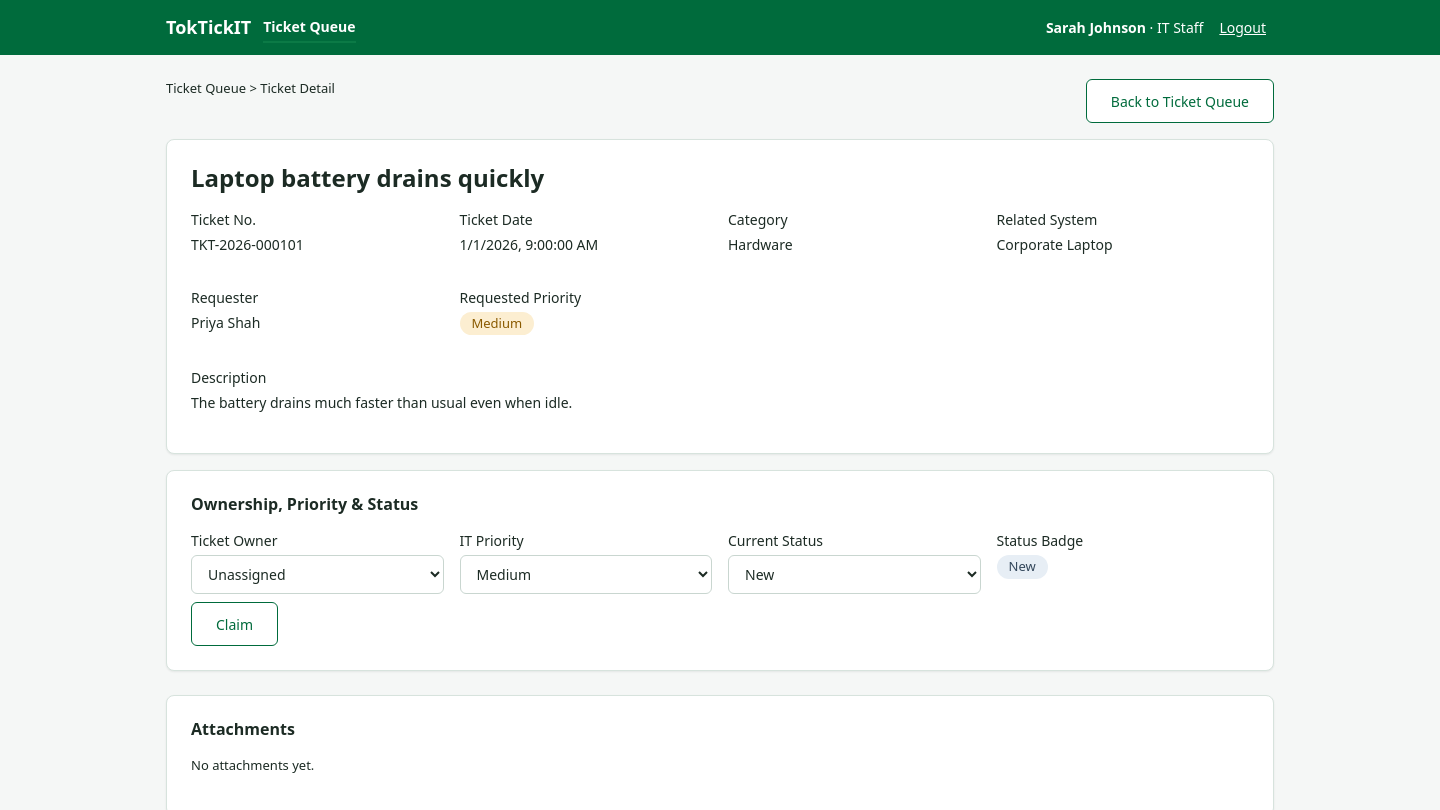
Scenario: IT Priority and Status › reverts the Status select and shows an error on a 409 INVALID_TRANSITION
Select "Open" in the dropdown labelled "Current Status" at x=854, y=575, box [728,556,980,594]
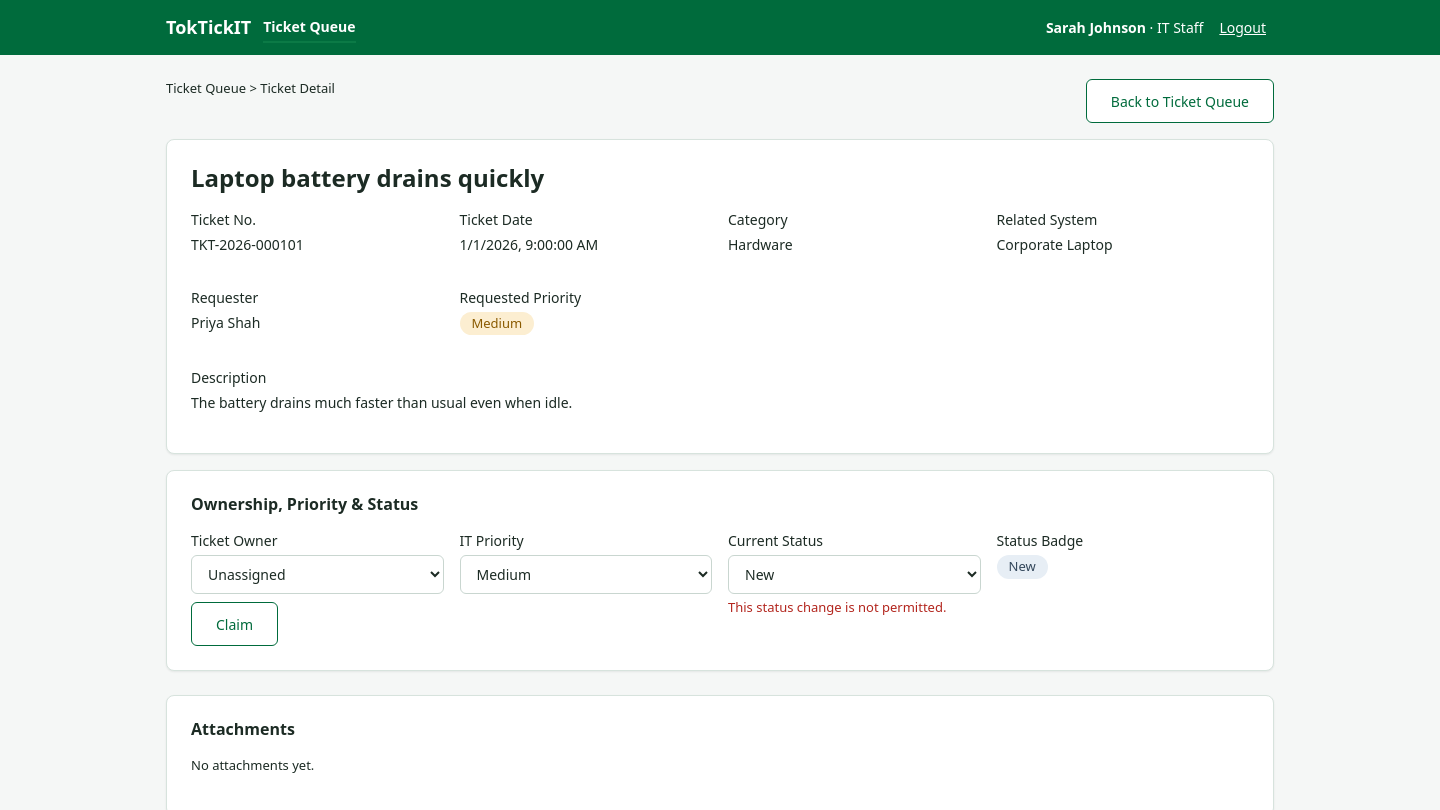
Now the text "This status change is not permitted." is shown, box [728,598,980,618]
